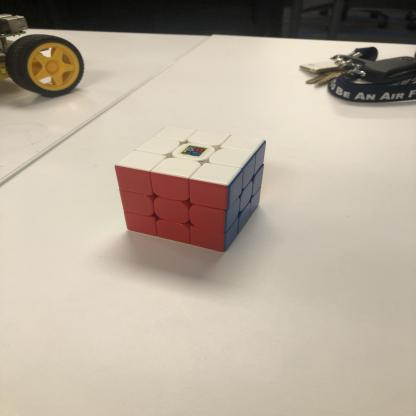SolvedCube: (102, 102, 298, 268)
